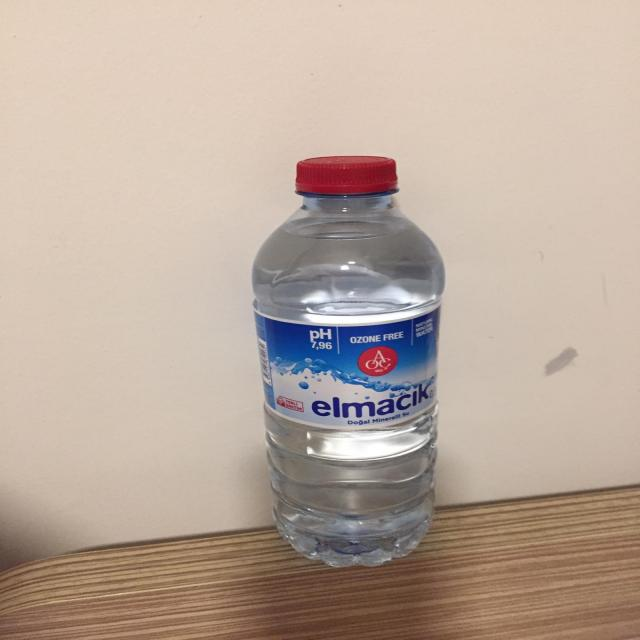bottle: (227, 130, 477, 578)
